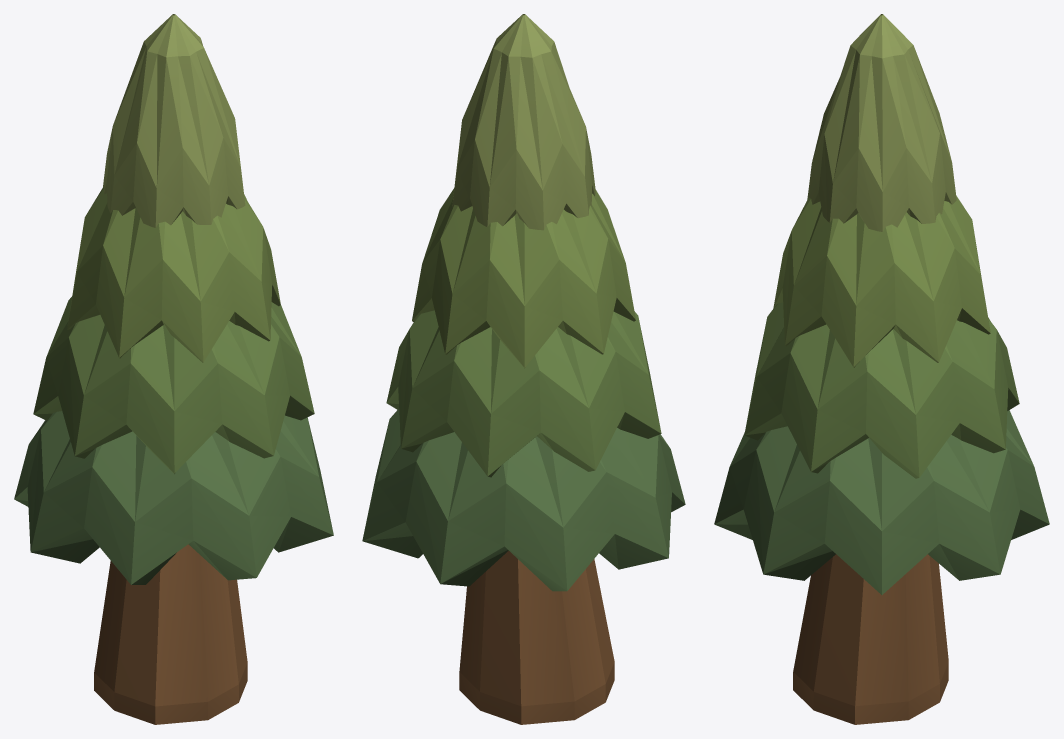
File: Fir.glb
The picture shows the model from 3 angles, left to right: view 1: azimuth 30°, elevation 25°; view 2: azimuth 150°, elevation 25°; view 3: azimuth 270°, elevation 25°; orthographic projection.
Parts seen in each view (by area): view 1: Crown, Stump, Sound; view 2: Crown, Stump, Sound; view 3: Crown, Stump, Sound.
Part boxes in pixels (x1=…): Crown: x1=14, y1=14, x2=333, y2=584; Stump: x1=94, y1=579, x2=247, y2=724; Sound: x1=107, y1=561, x2=233, y2=610; Crown: x1=362, y1=14, x2=685, y2=591; Stump: x1=459, y1=575, x2=614, y2=724; Sound: x1=470, y1=559, x2=597, y2=612; Crown: x1=714, y1=14, x2=1049, y2=594; Stump: x1=793, y1=576, x2=948, y2=724; Sound: x1=809, y1=555, x2=939, y2=612.
Bounding box in the file's own units: 2.11 × 4.73 × 2.11.
